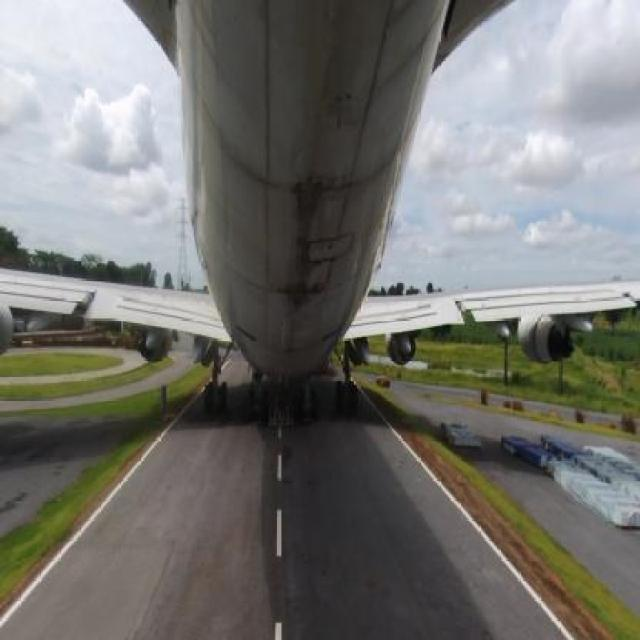Scartch: (218, 145, 413, 204), (238, 261, 372, 314), (363, 2, 400, 152), (264, 208, 359, 263), (257, 11, 280, 152)
